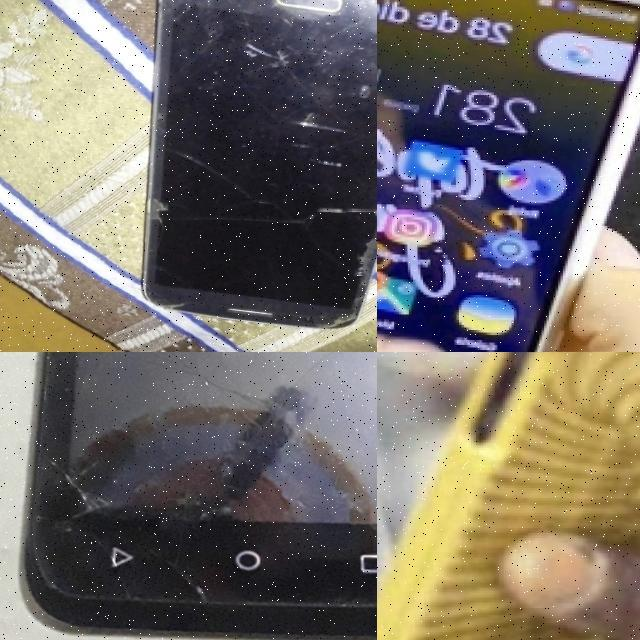screen crack: (21, 352, 377, 607), (322, 170, 377, 299), (218, 25, 319, 80), (106, 180, 191, 244), (280, 110, 377, 145)
